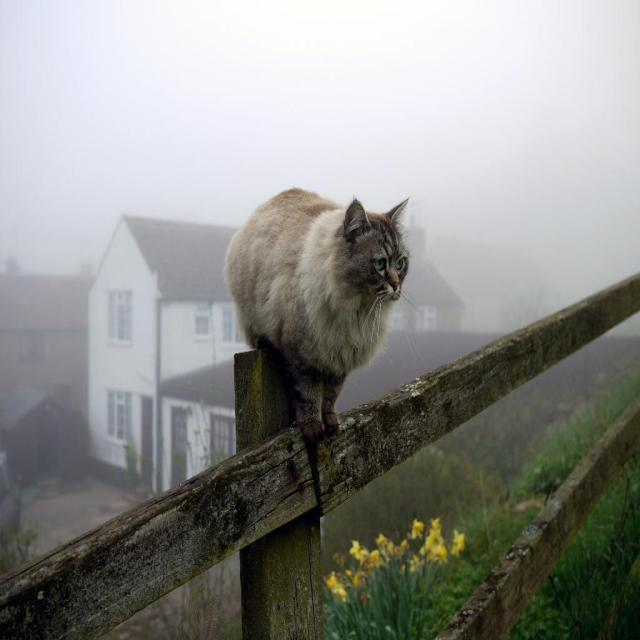Cat: (220, 179, 407, 449)
